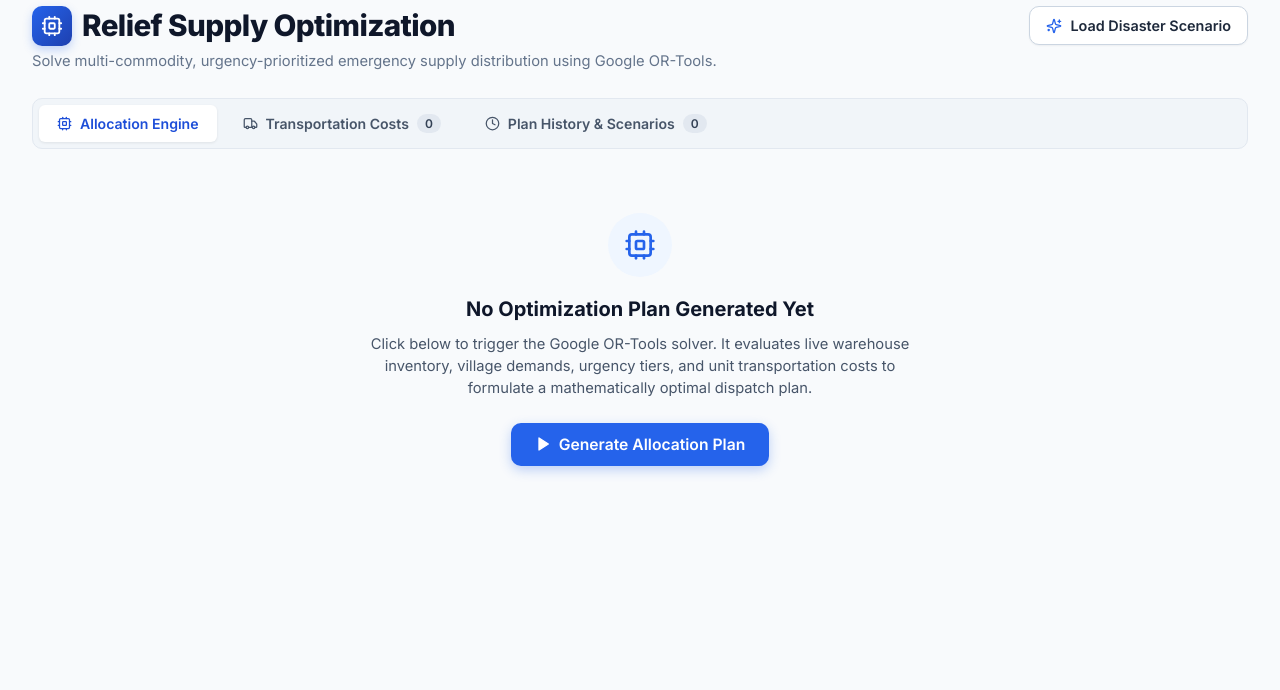
Test: Optimization Engine Page (OptimizationPage.jsx) › Transportation Matrix Batch Grid › adds new route row and alerts on duplicate warehouse-village combination
Click the button "Transportation Costs 0".
click(342, 123)  # box [225, 104, 459, 142]
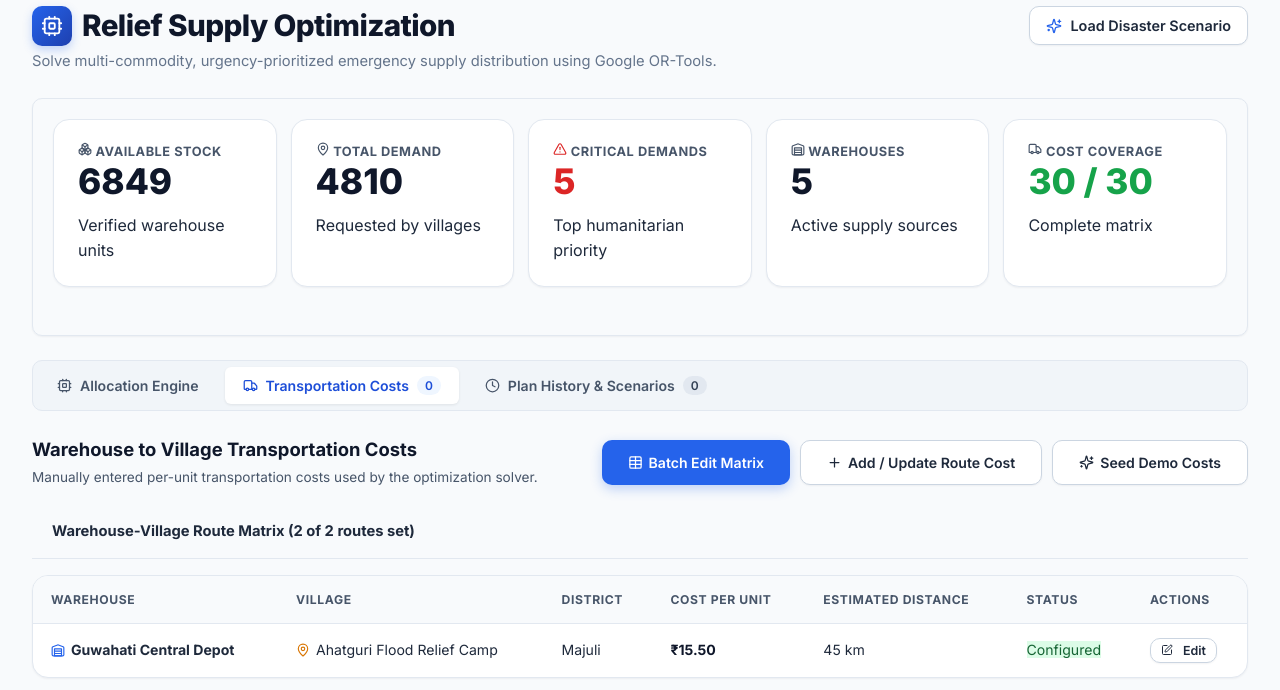
Now the text "Warehouse-Village Route Matrix (2 of 2 routes set)" is shown, box [52, 520, 415, 544]
Click the button "Batch Edit Matrix".
click(696, 462)  # box [602, 440, 790, 485]
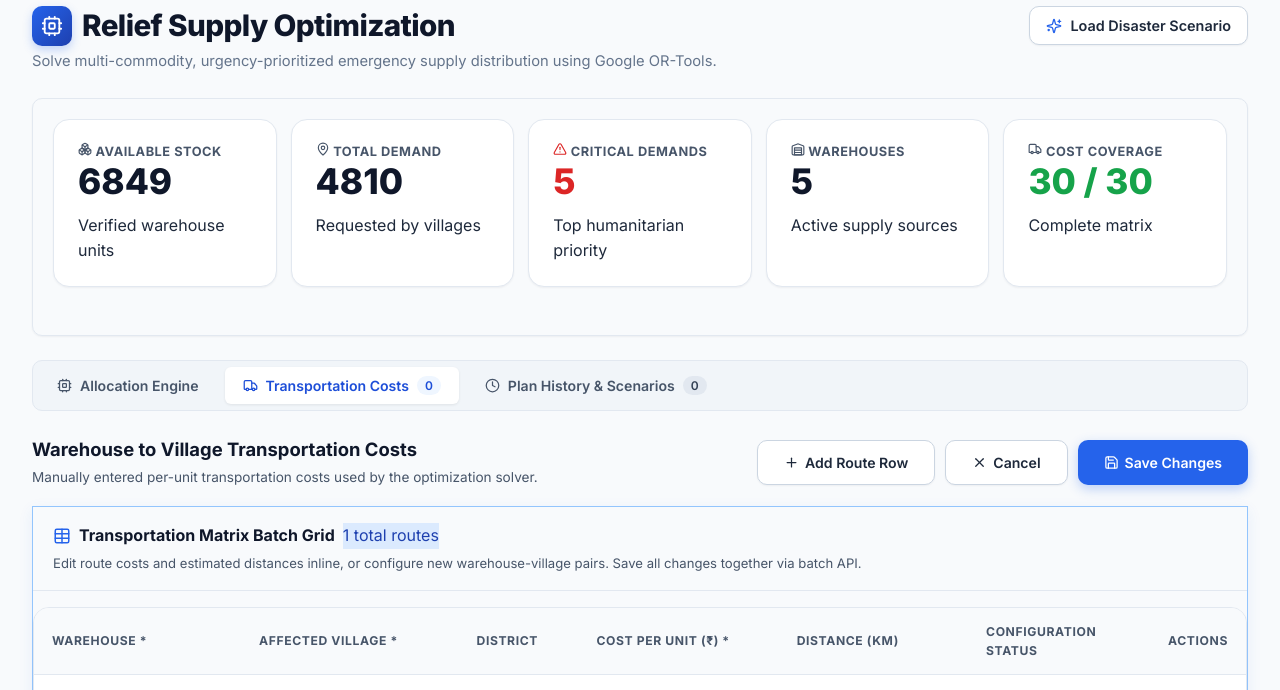
Now the heading "Transportation Matrix Batch Grid" is shown, box [79, 523, 335, 549]
# Click Add Route Row
Click the button "Add Route Row".
click(846, 462)  # box [757, 440, 935, 485]
(page scrolled)
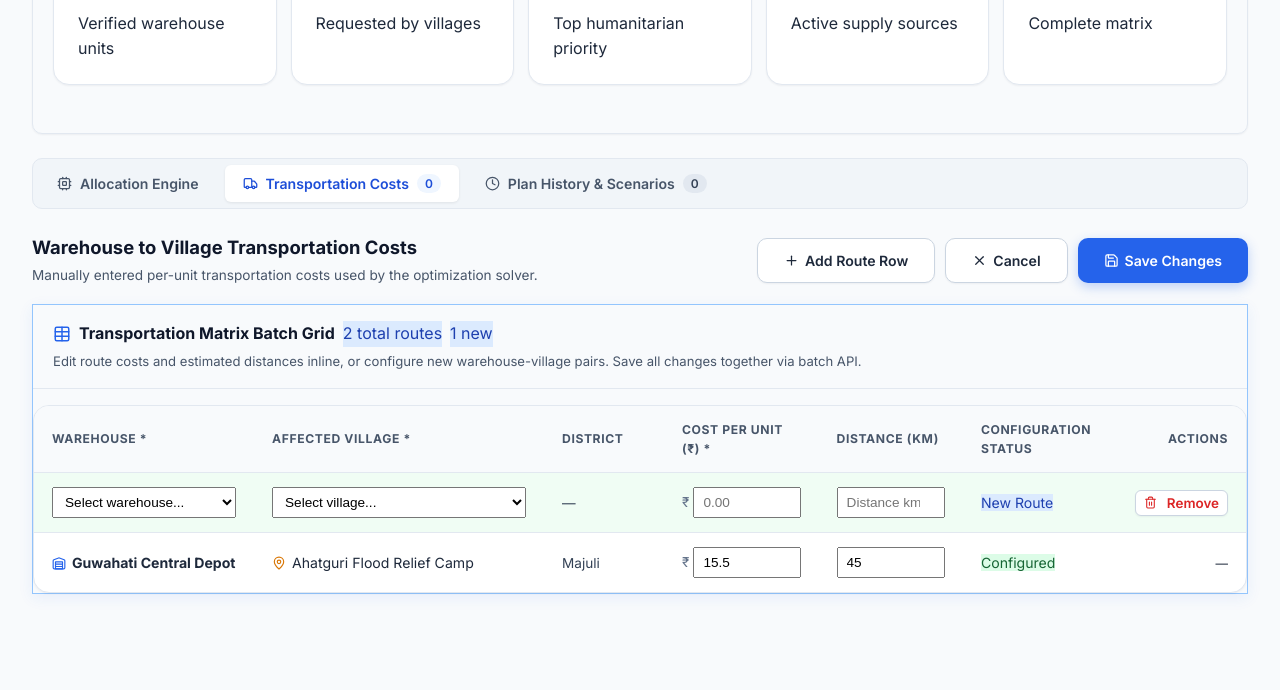
Now the text "1 new" is shown, box [450, 321, 493, 347]
Select "Guwahati Central Depot" in the dropdown named "Select source warehouse" at (144, 503), box [52, 487, 236, 518]
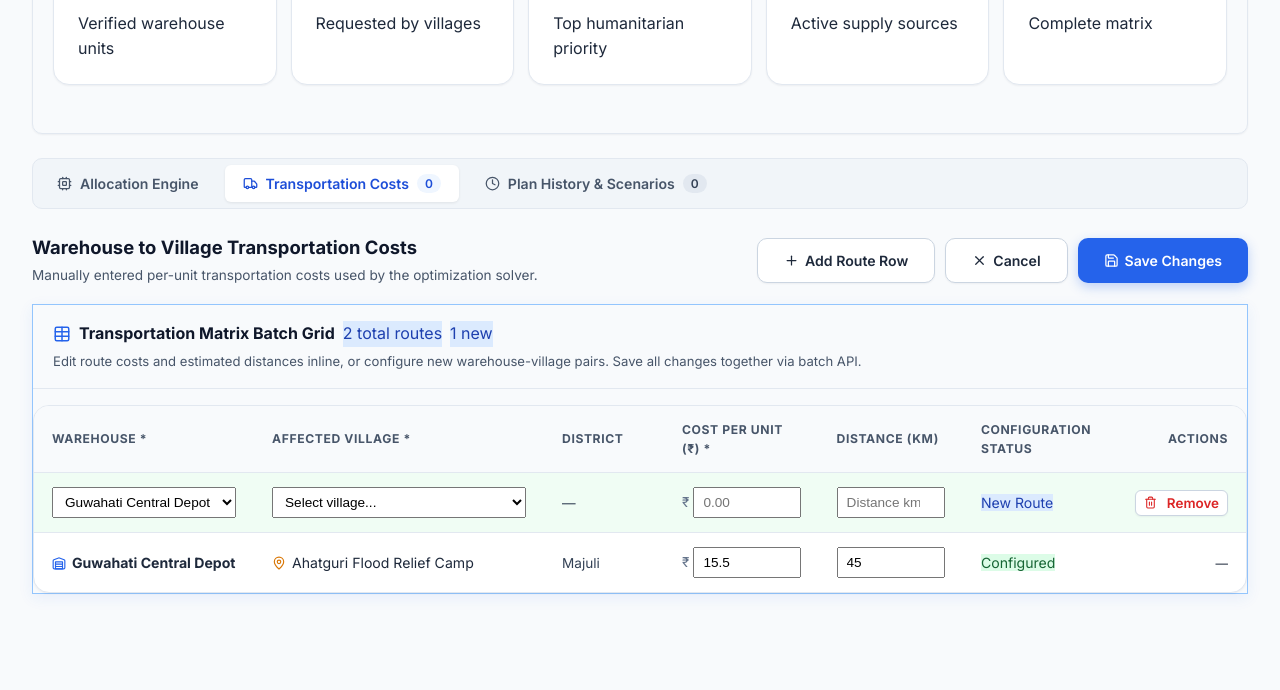
Select "Ahatguri Flood Relief Camp (Majuli)" in the dropdown named "Select destination village" at (399, 503), box [272, 487, 526, 518]
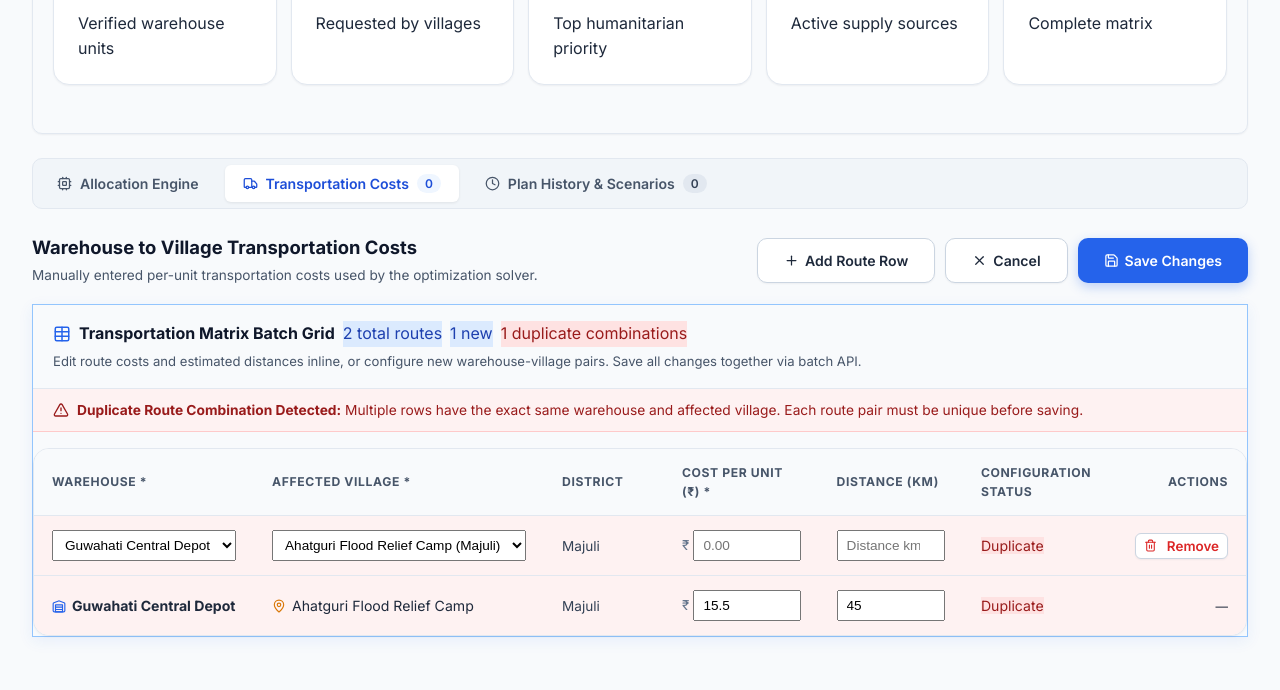
Expected: the button "Save Changes" is disabled, [1078, 238, 1248, 283]
Now the text "Duplicate Route Combination Detected:" is shown, box [77, 402, 341, 418]
